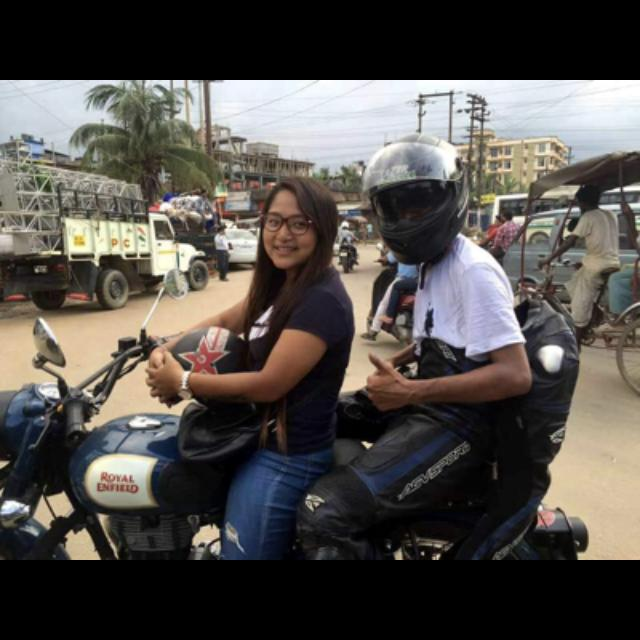With Helmet: (353, 123, 483, 265)
Without Helmet: (253, 162, 341, 272)
